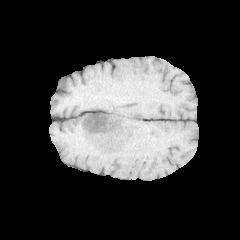glioma: (65, 102, 136, 155)
